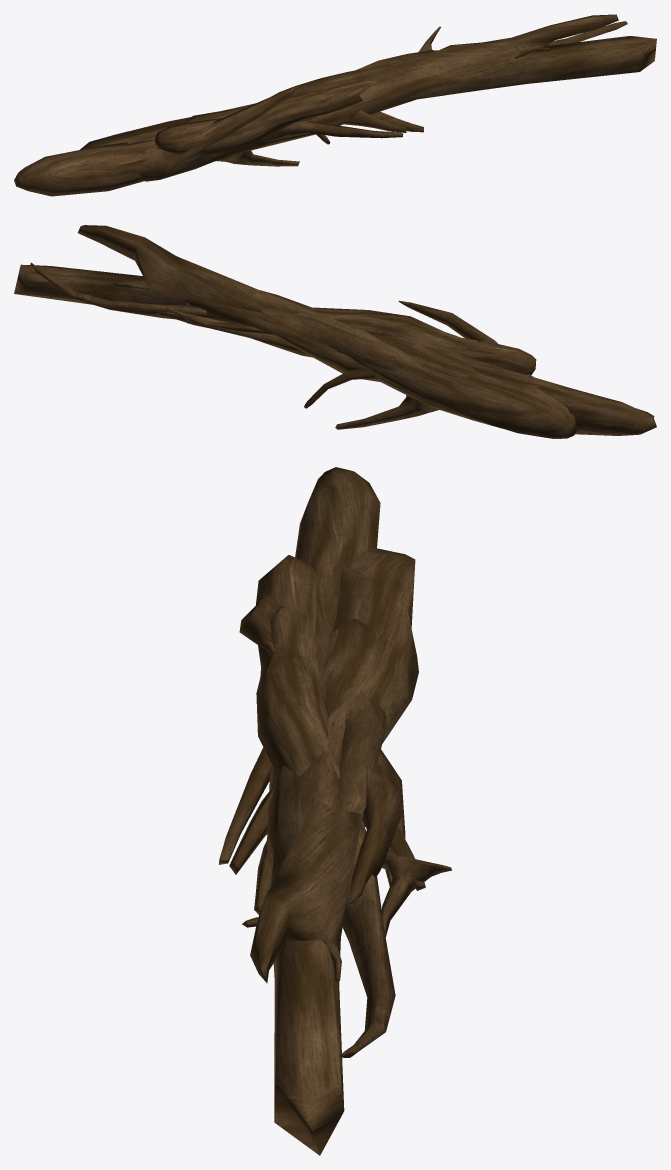
File: KindledSpirits-Sticks.fbx
The picture shows the model from 3 angles, top to bottom: view 1: azimuth 30°, elevation 25°; view 2: azimuth 150°, elevation 25°; view 3: azimuth 270°, elevation 25°; orthographic projection. The views are drawn at different scales.
Parts seen in each view (by area): view 1: Stick-05-LOD0, Stick-04-LOD0, Stick-01-LOD0, Stick-02-LOD0, Stick-03-LOD0; view 2: Stick-05-LOD0, Stick-04-LOD0, Stick-01-LOD0, Stick-03-LOD0, Stick-02-LOD0; view 3: Stick-05-LOD0, Stick-01-LOD0, Stick-04-LOD0, Stick-03-LOD0, Stick-02-LOD0.
Boxes of the visible parts, bbox=[...] form: Stick-05-LOD0: bbox=[80, 14, 656, 154]; Stick-04-LOD0: bbox=[14, 44, 549, 196]; Stick-01-LOD0: bbox=[155, 21, 627, 154]; Stick-02-LOD0: bbox=[136, 26, 440, 181]; Stick-03-LOD0: bbox=[183, 50, 437, 153]; Stick-05-LOD0: bbox=[14, 225, 576, 438]; Stick-04-LOD0: bbox=[113, 282, 656, 435]; Stick-01-LOD0: bbox=[30, 262, 536, 408]; Stick-03-LOD0: bbox=[184, 298, 478, 381]; Stick-02-LOD0: bbox=[156, 300, 533, 376]; Stick-05-LOD0: bbox=[250, 547, 418, 1155]; Stick-01-LOD0: bbox=[256, 555, 405, 1057]; Stick-04-LOD0: bbox=[219, 467, 425, 982]; Stick-03-LOD0: bbox=[229, 618, 402, 905]; Stick-02-LOD0: bbox=[239, 594, 451, 937].
Size of what is drawn, in the model's own units: 180 by 30.11 by 28.69.
